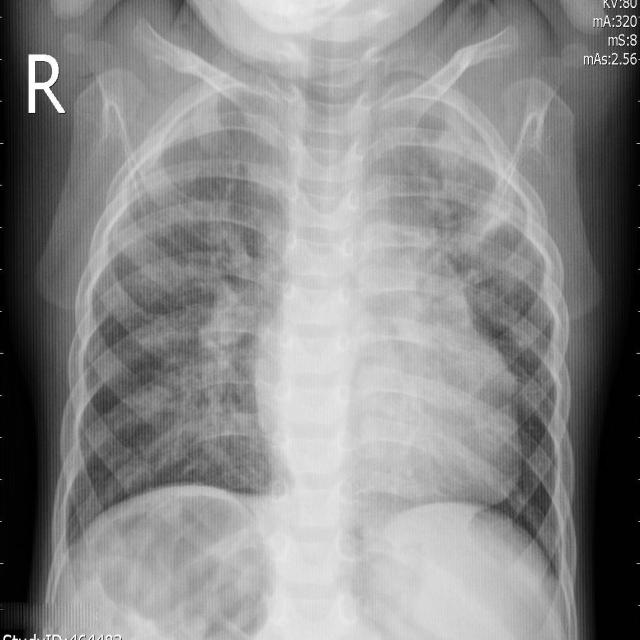low-pneumonia: (173, 240, 267, 467), (385, 94, 526, 242)
